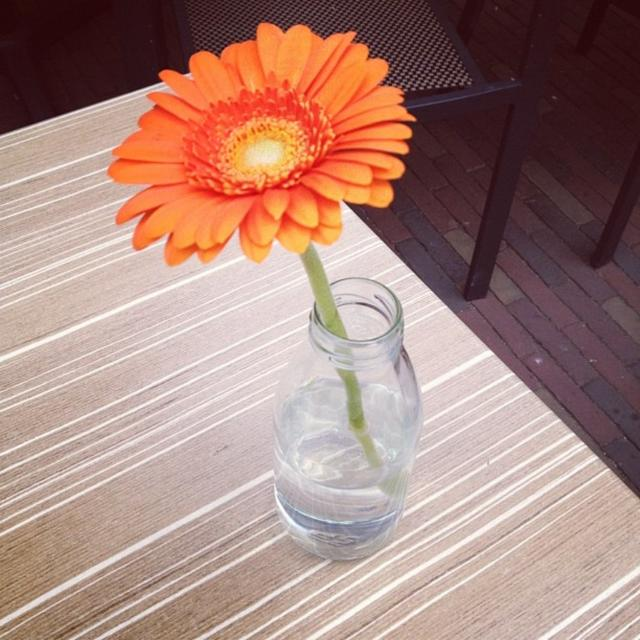Flower: (108, 22, 412, 482)
